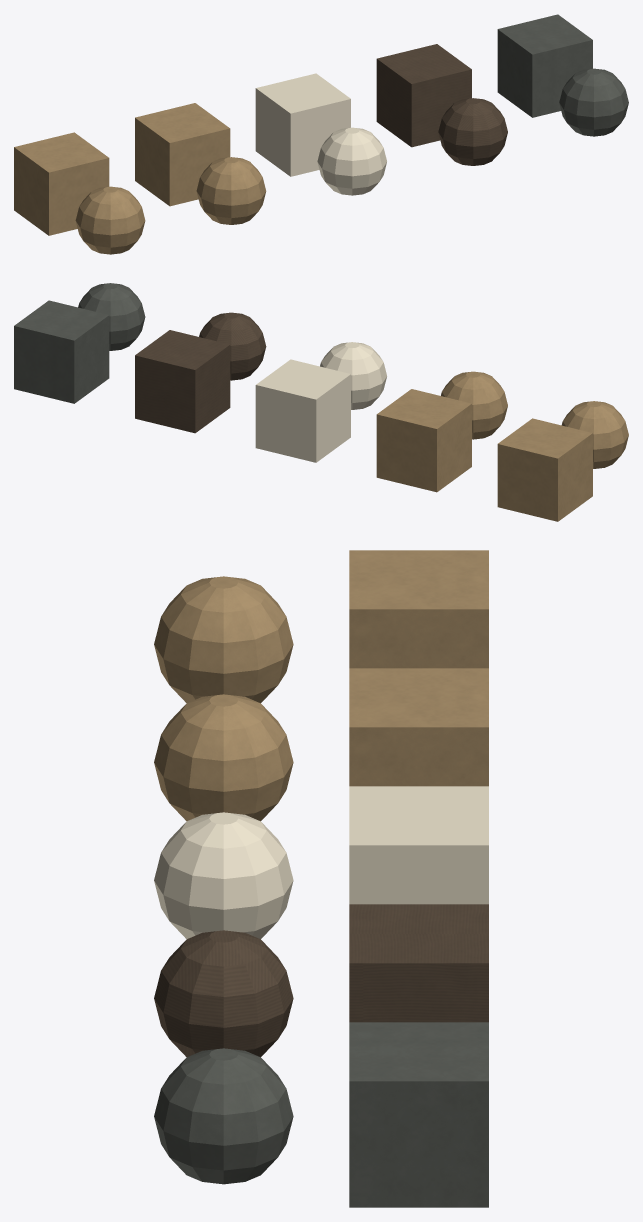
The model's file is lyref-A-LOD1.glb.
The picture shows the model from 3 angles, top to bottom: view 1: azimuth 30°, elevation 25°; view 2: azimuth 150°, elevation 25°; view 3: azimuth 270°, elevation 25°; orthographic projection. The views are drawn at different scales.
Parts seen in each view (by area): view 1: lyref-A-static_paper__stone, lyref-A-static_timber, lyref-A-static_tile, lyref-A-static_earth, lyref-A-static_path; view 2: lyref-A-static_path, lyref-A-static_earth, lyref-A-static_paper__stone, lyref-A-static_timber, lyref-A-static_tile; view 3: lyref-A-static_tile, lyref-A-static_path, lyref-A-static_earth, lyref-A-static_timber, lyref-A-static_paper__stone.
Boxes of the visible parts, <box> form: lyref-A-static_paper__stone: <box>255,73,386,195</box>; lyref-A-static_timber: <box>376,44,507,165</box>; lyref-A-static_tile: <box>497,14,628,136</box>; lyref-A-static_earth: <box>14,132,145,254</box>; lyref-A-static_path: <box>135,103,266,224</box>; lyref-A-static_path: <box>376,371,507,492</box>; lyref-A-static_earth: <box>497,401,628,521</box>; lyref-A-static_paper__stone: <box>255,342,386,462</box>; lyref-A-static_timber: <box>135,312,266,433</box>; lyref-A-static_tile: <box>14,283,145,403</box>; lyref-A-static_tile: <box>154,1022,488,1207</box>; lyref-A-static_path: <box>154,668,488,821</box>; lyref-A-static_earth: <box>154,550,488,703</box>; lyref-A-static_timber: <box>154,904,488,1057</box>; lyref-A-static_paper__stone: <box>154,786,488,939</box>.
Size of the model in its own units: 9 by 1 by 2.4.
5 materials, 4 textured.
